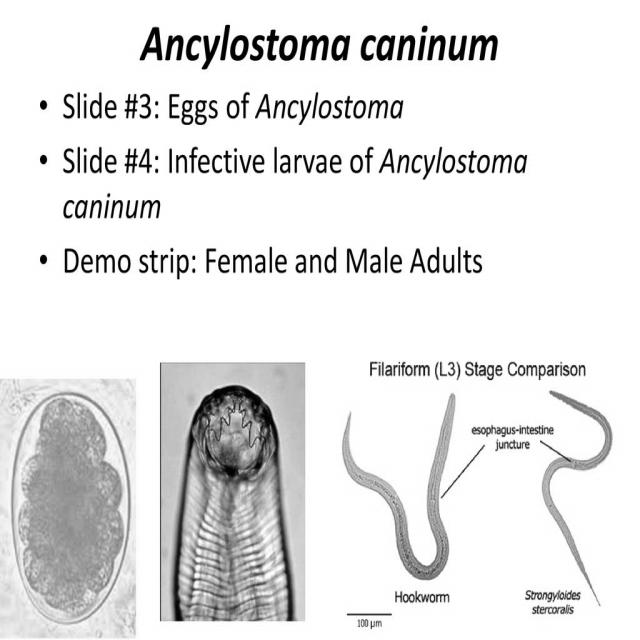Ancylostoma Spp: (6, 385, 135, 627)
